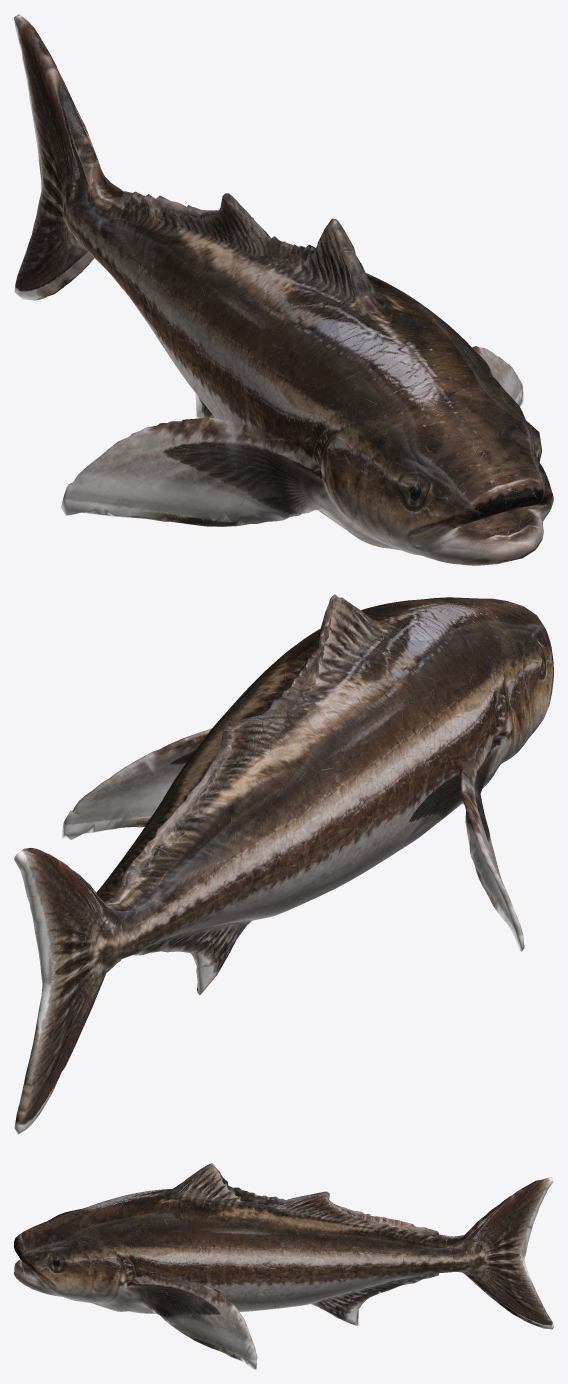
Rendered from fish_cobia.glb.
The picture shows the model from 3 angles, top to bottom: view 1: azimuth 30°, elevation 25°; view 2: azimuth 150°, elevation 25°; view 3: azimuth 270°, elevation 25°; orthographic projection. The views are drawn at different scales.
Parts seen in each view (by area): view 1: geometry_0; view 2: geometry_0; view 3: geometry_0.
Boxes of the visible parts, box(x1,y1,x2,y2) form: geometry_0: box(14, 14, 553, 565); geometry_0: box(14, 594, 553, 1134); geometry_0: box(14, 1163, 553, 1369).
Size of the model in its own units: 1.04 by 0.6655 by 1.96.
1 material, 1 textured.
